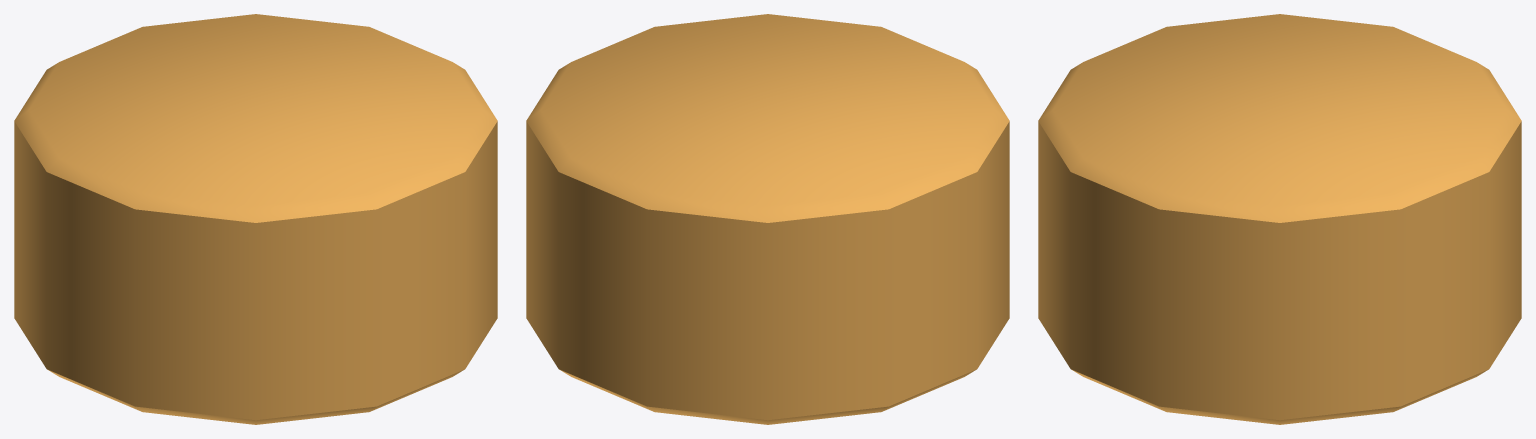
3 views of the same model, side by side, from view 1: azimuth 30°, elevation 25°; view 2: azimuth 150°, elevation 25°; view 3: azimuth 270°, elevation 25° (orthographic).
Parts seen in each view (by area): view 1: Cylinder_05; view 2: Cylinder_05; view 3: Cylinder_05.
Part boxes in pixels (x1=…): Cylinder_05: x1=14, y1=14, x2=497, y2=424; Cylinder_05: x1=526, y1=14, x2=1009, y2=424; Cylinder_05: x1=1038, y1=14, x2=1521, y2=424.
Bounding box in the file's own units: 320 × 160 × 320.
